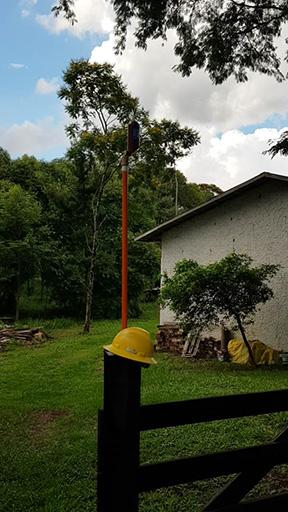Detector_Tensao_Contato: (124, 110, 140, 155)
Vara_Manobra: (118, 153, 130, 334)
